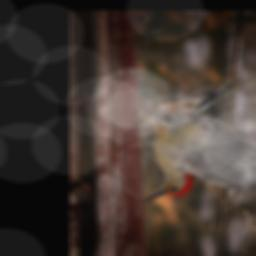Woodpecker: (144, 83, 256, 204)
